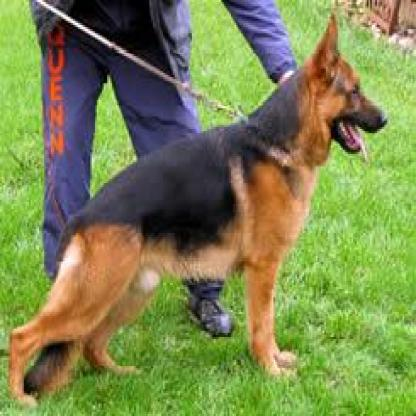dog: (5, 14, 392, 407)
